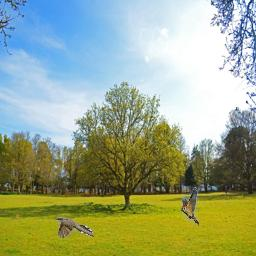Cuckoo: (54, 217, 94, 238)
Sparrow: (181, 187, 199, 227)
